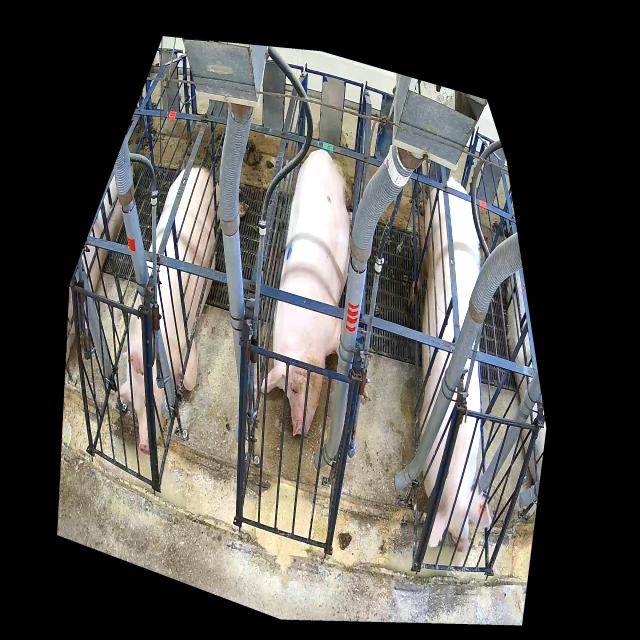pig: (114, 165, 248, 455), (408, 177, 492, 552), (261, 148, 367, 437)
